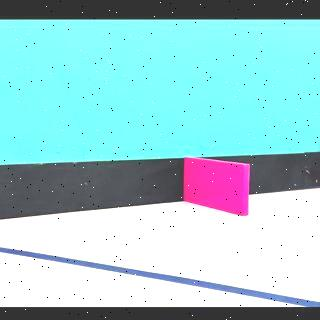xparking: (187, 164, 243, 216)
